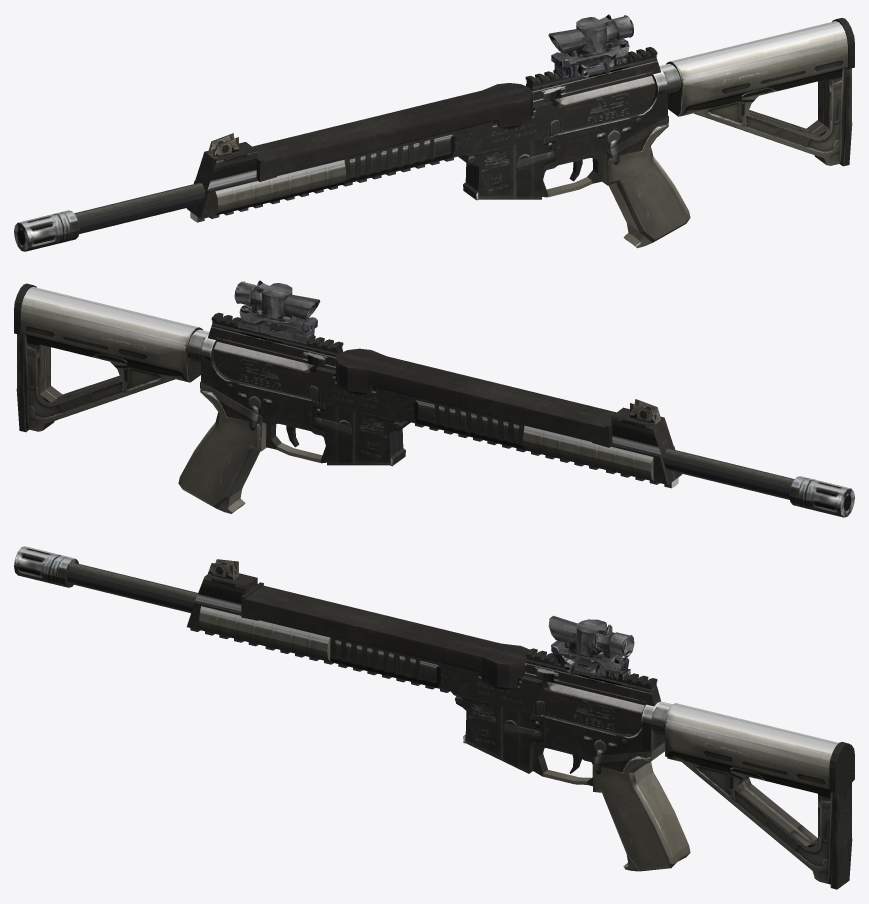
Rendered from w_ar57_susat.obj.
3 renders of one model, top to bottom at view 1: azimuth 30°, elevation 25°; view 2: azimuth 150°, elevation 25°; view 3: azimuth 330°, elevation 25°, orthographic.
Parts seen in each view (by area): view 1: Cube_Cube.001, W_Susat; view 2: Cube_Cube.001, W_Susat; view 3: Cube_Cube.001, W_Susat.
Part boxes in pixels (x1,y1,x2,y2): Cube_Cube.001: [14, 18, 854, 251]; W_Susat: [548, 14, 633, 79]; Cube_Cube.001: [14, 283, 854, 517]; W_Susat: [234, 280, 320, 344]; Cube_Cube.001: [14, 546, 854, 889]; W_Susat: [548, 615, 634, 680].
Bounding box in the file's own units: 13.44 × 3.66 × 0.6729.
